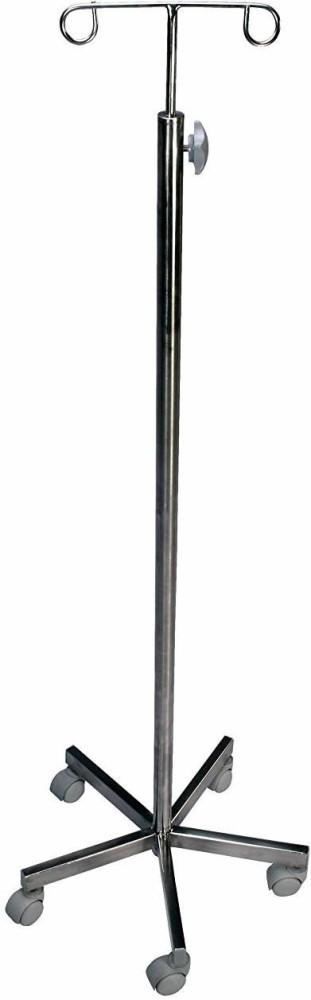Saline Stand: (5, 0, 308, 996)
